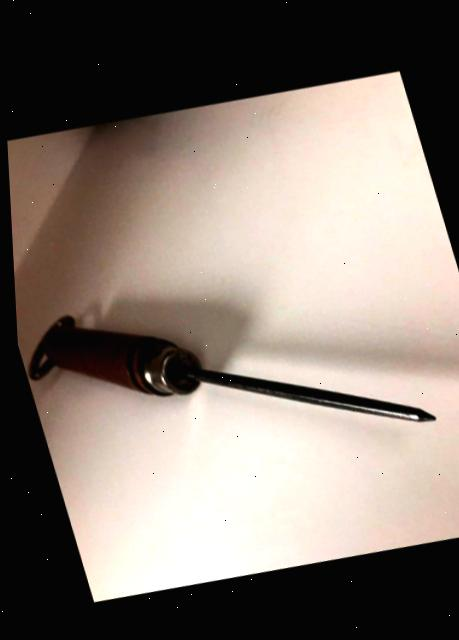ice pick: (31, 243, 434, 504)
